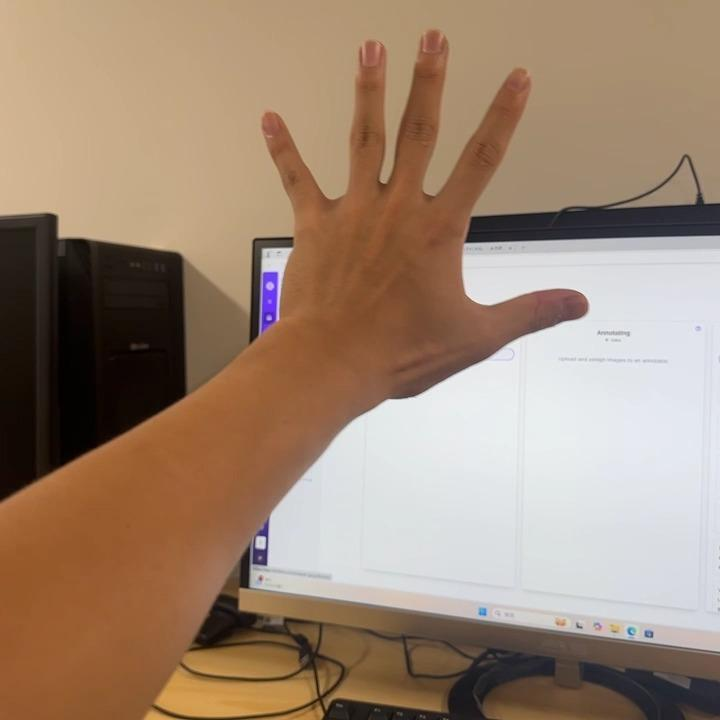without_gloves: (228, 25, 579, 401)
